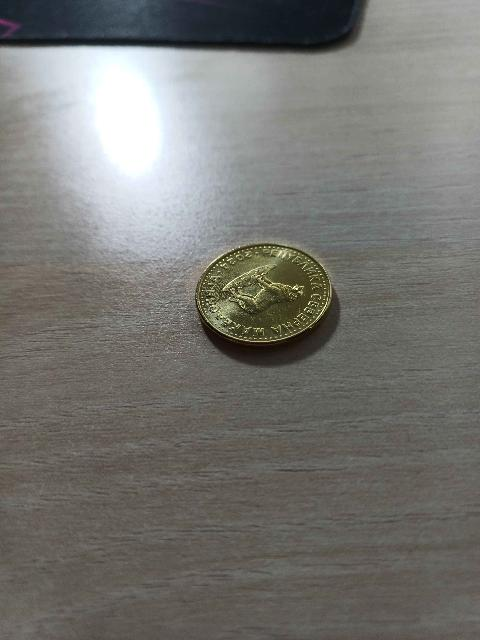1_coin: (196, 244, 331, 344)
